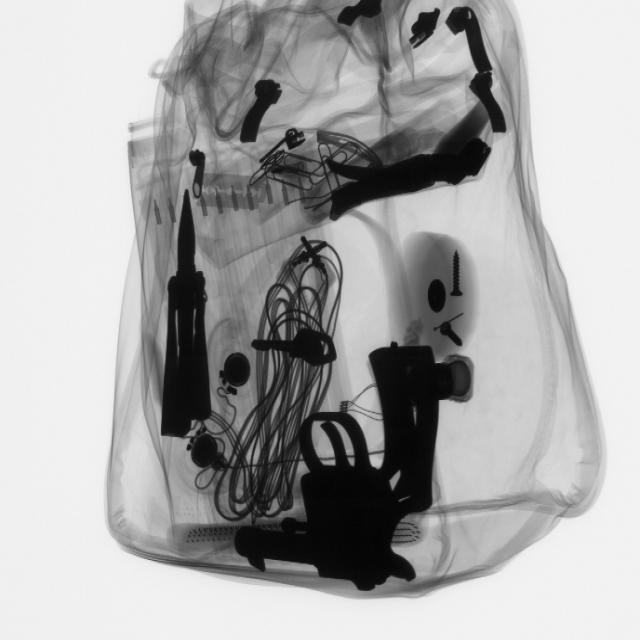GUN: (239, 385, 440, 592)
KNIFE: (158, 186, 217, 487)
SCREW: (434, 308, 479, 360), (445, 245, 478, 308)
